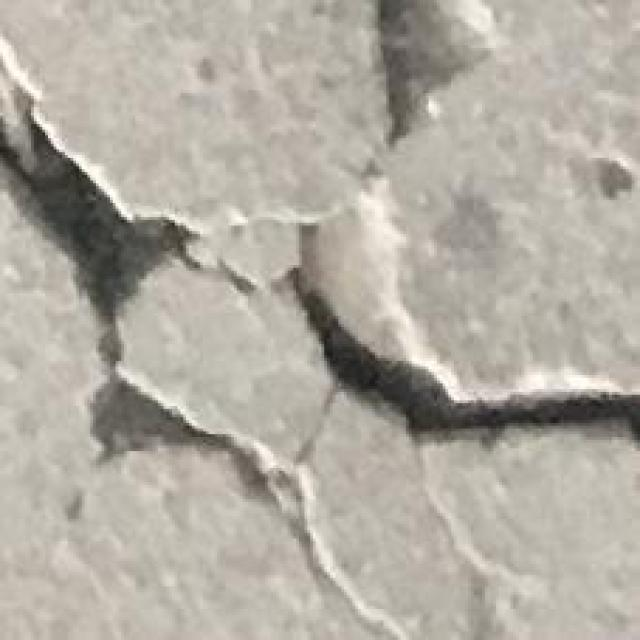Crack: (3, 8, 640, 629)
